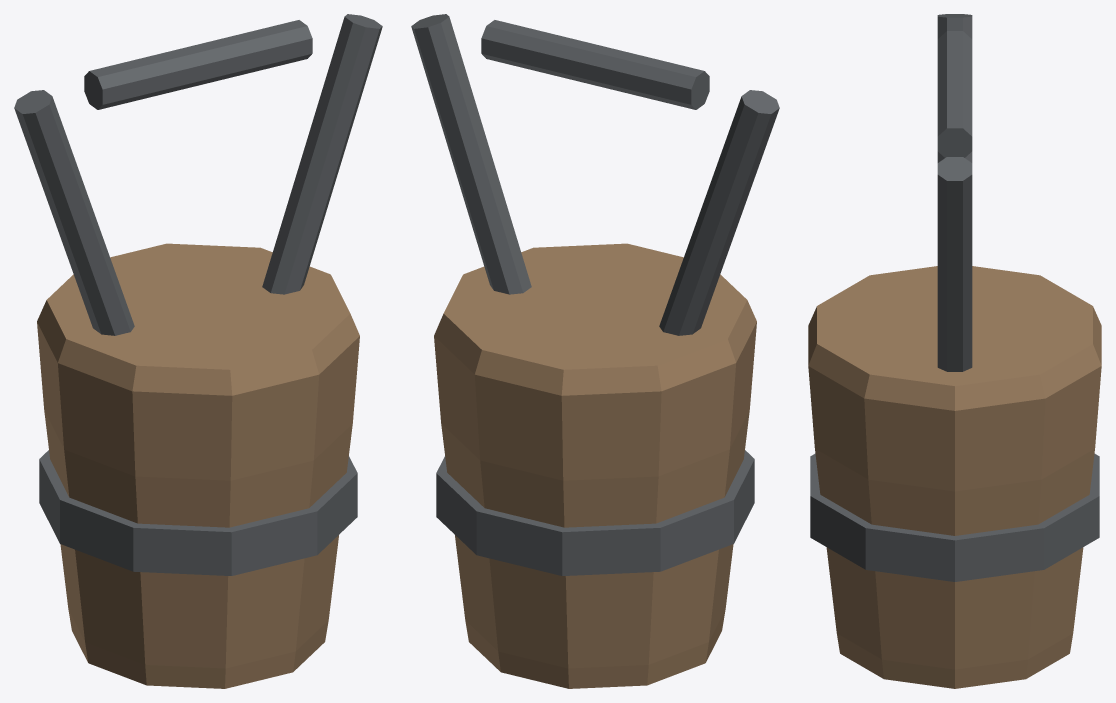
The model's file is bucket.glb.
3 renders of one model, left to right at view 1: azimuth 30°, elevation 25°; view 2: azimuth 150°, elevation 25°; view 3: azimuth 270°, elevation 25°, orthographic. The views are drawn at different scales.
Parts seen in each view (by area): view 1: bucket; view 2: bucket; view 3: bucket.
Part boxes in pixels (x1=…): bucket: x1=14, y1=14, x2=382, y2=688; bucket: x1=411, y1=14, x2=779, y2=688; bucket: x1=808, y1=14, x2=1101, y2=688.
Size of the model in its own units: 0.343 by 0.535 by 0.2549.
